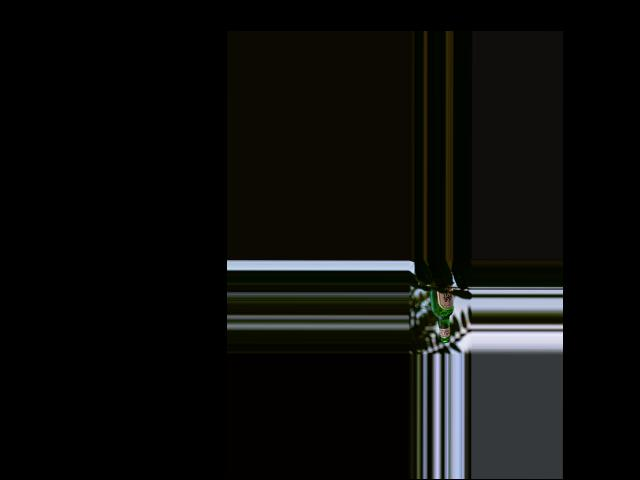beer: (430, 283, 454, 343)
